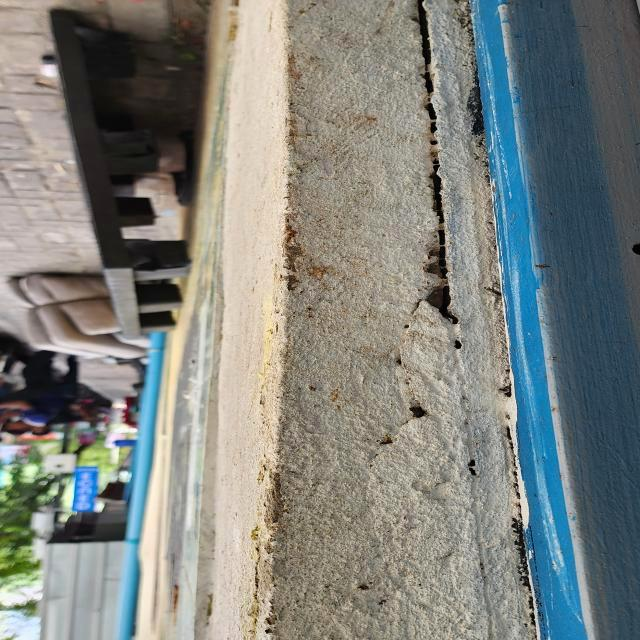SurfaceCrack: (1, 0, 234, 593), (335, 0, 494, 638), (209, 0, 343, 640)
